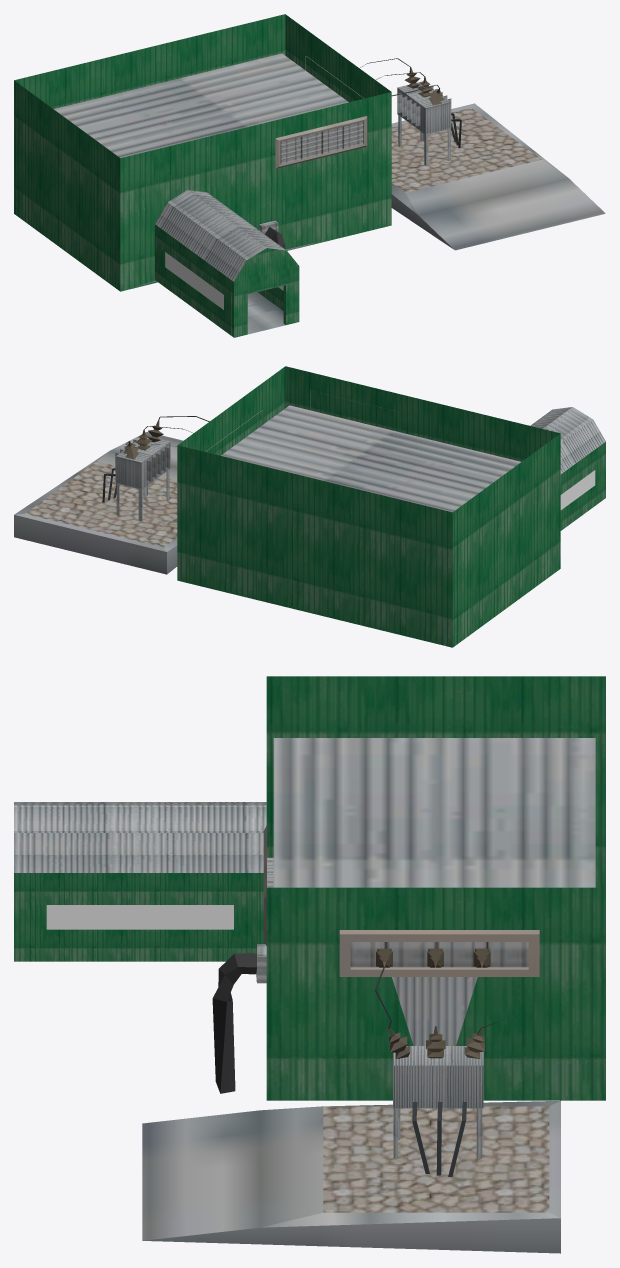
File: StikkontaktVerketFix2.glb
The picture shows the model from 3 angles, top to bottom: view 1: azimuth 30°, elevation 25°; view 2: azimuth 150°, elevation 25°; view 3: azimuth 270°, elevation 25°; orthographic projection. The views are drawn at different scales.
Parts seen in each view (by area): view 1: StikkKontaktVerket, Cube; view 2: StikkKontaktVerket, Cube; view 3: StikkKontaktVerket, Cube.
Boxes of the visible parts, box(x1,y1,x2,y2) form: StikkKontaktVerket: box(14, 14, 605, 337); Cube: box(165, 252, 283, 309); StikkKontaktVerket: box(14, 366, 605, 647); Cube: box(560, 470, 595, 509); StikkKontaktVerket: box(14, 676, 605, 1253); Cube: box(46, 905, 233, 929).
Bounding box in the file's own units: 35 × 14.18 × 25.2.
Materials: 2 (1 with a texture image).
